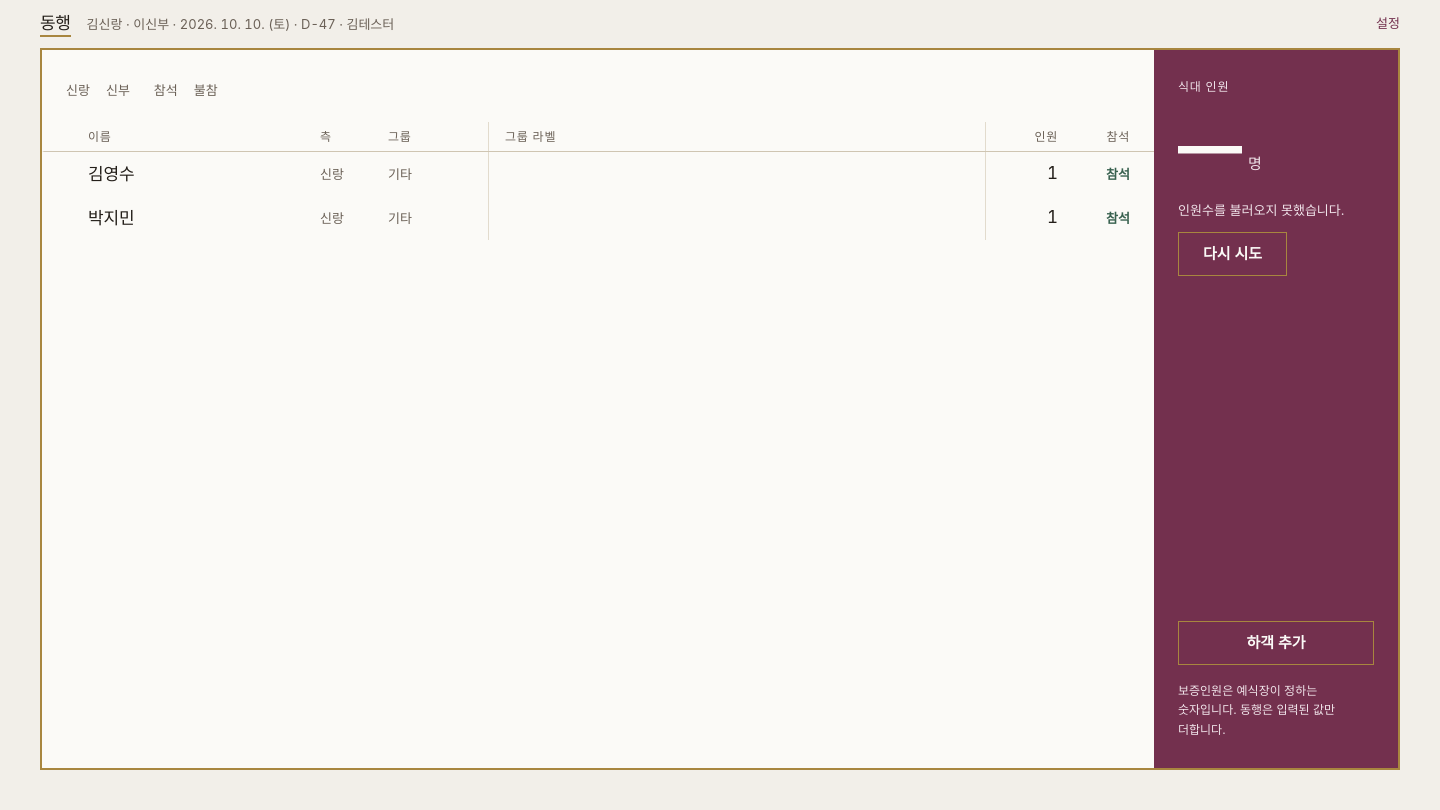
Test: says the number failed rather than showing one, and asks for it again
Check: the text "인원수를 불러오지 못했습니다." is shown, box [1178, 201, 1344, 220]
Check: the number of elements with test id "guest-name" is 2, box [88, 164, 134, 184]; [88, 208, 134, 228]
Click the button "다시 시도" at (1232, 254), box [1178, 232, 1287, 276]
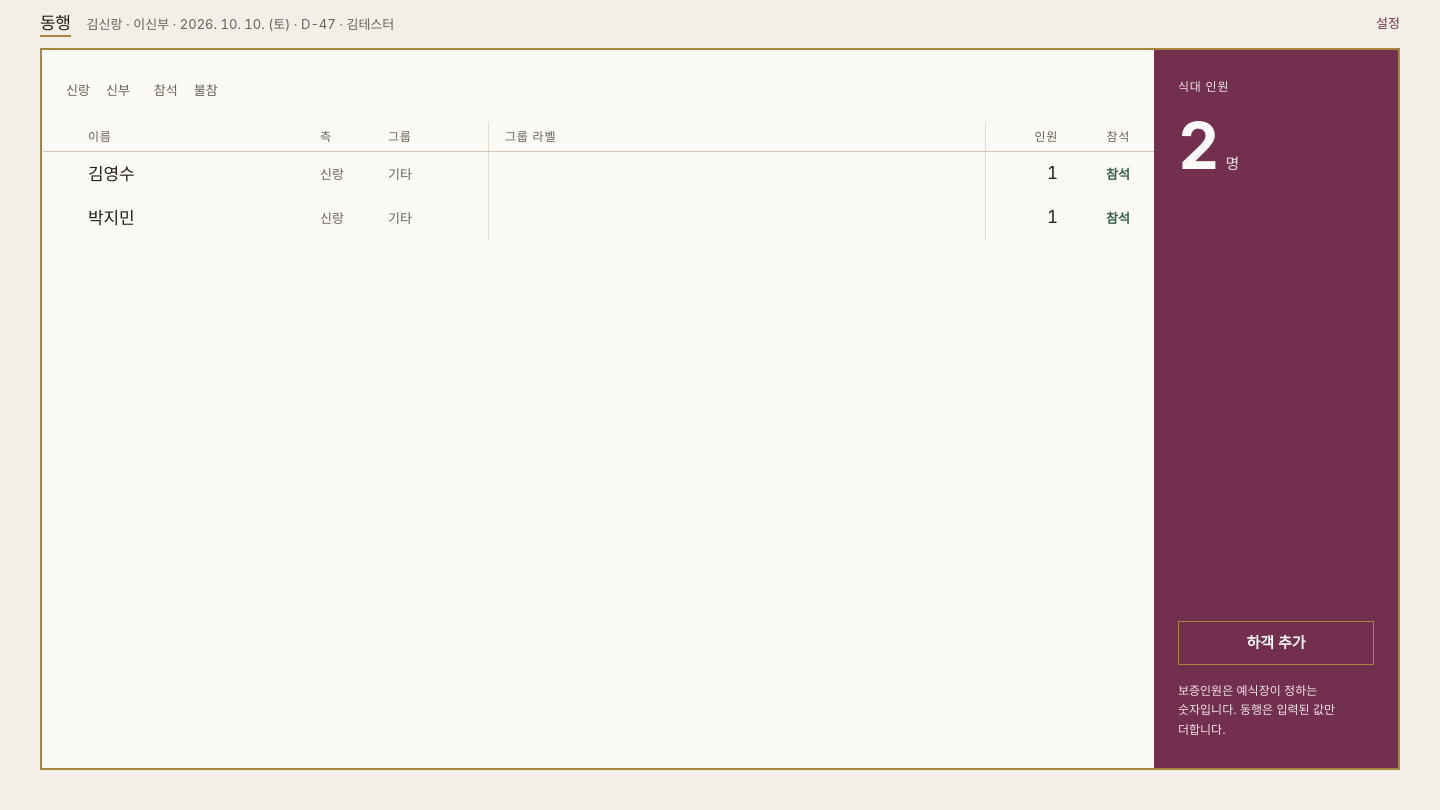
Check: the text "2" is shown, box [1178, 108, 1218, 185]
Check: the text "인원수를 불러오지 못했습니다." is gone
